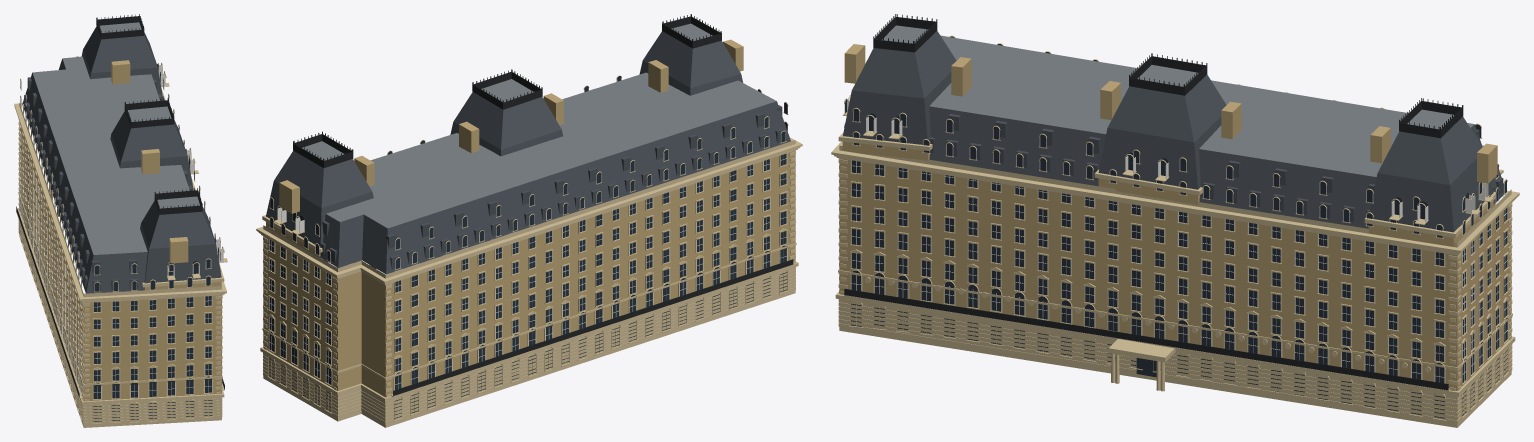
The model's file is grosvenor_hotel_victoria.glb.
3 views of the same model, side by side, from view 1: azimuth 30°, elevation 25°; view 2: azimuth 150°, elevation 25°; view 3: azimuth 270°, elevation 25° (orthographic). The views are drawn at different scales.
Size of the model in its own units: 57.88 by 42.52 by 89.94.
